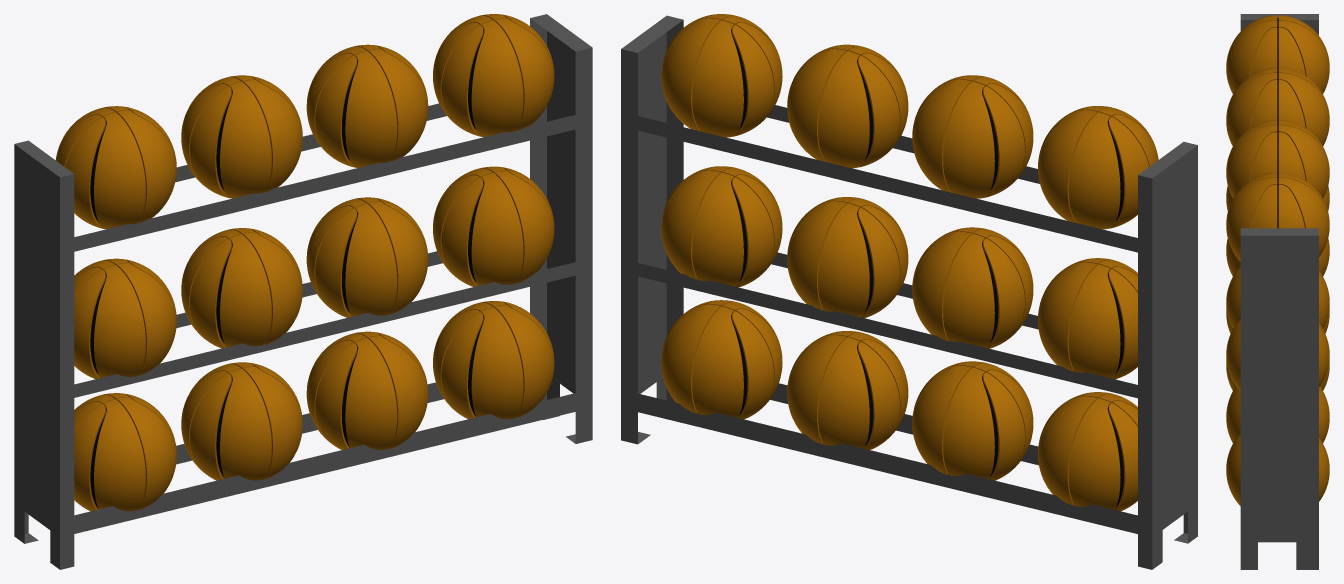
The model's file is basketballRack.fbx.
3 views of the same model, side by side, from view 1: azimuth 30°, elevation 25°; view 2: azimuth 150°, elevation 25°; view 3: azimuth 270°, elevation 25° (orthographic). The views are drawn at different scales.
Parts seen in each view (by area): view 1: pCube1, pSphere1, pSphere2, pSphere3, pSphere6, pSphere7, pSphere5, pSphere9, pSphere10, pSphere11, basketballModel:pSphere1, pSphere4 (+1 smaller); view 2: pCube1, pSphere2, pSphere1, pSphere3, pSphere5, pSphere7, pSphere6, pSphere9, pSphere10, pSphere11, basketballModel:pSphere1, pSphere4 (+1 smaller); view 3: pCube1, pSphere2, basketballModel:pSphere1, pSphere1, pSphere3, pSphere7, pSphere11, pSphere6, pSphere10, pSphere5, pSphere4, pSphere9.
Part boxes in pixels (bbox=[...]): pCube1: bbox=[14, 14, 592, 569]; pSphere1: bbox=[181, 75, 302, 198]; pSphere2: bbox=[306, 44, 428, 167]; pSphere3: bbox=[433, 14, 554, 137]; pSphere6: bbox=[306, 197, 428, 317]; pSphere7: bbox=[433, 166, 554, 286]; pSphere5: bbox=[181, 228, 302, 348]; pSphere9: bbox=[181, 362, 302, 480]; pSphere10: bbox=[306, 331, 428, 449]; pSphere11: bbox=[433, 301, 554, 419]; basketballModel:pSphere1: bbox=[55, 106, 176, 229]; pSphere4: bbox=[74, 258, 176, 379]; pCube1: bbox=[621, 15, 1197, 569]; pSphere2: bbox=[787, 44, 908, 168]; pSphere1: bbox=[912, 75, 1033, 198]; pSphere3: bbox=[661, 14, 782, 137]; pSphere5: bbox=[912, 227, 1033, 348]; pSphere7: bbox=[661, 166, 782, 287]; pSphere6: bbox=[787, 197, 908, 318]; pSphere9: bbox=[912, 361, 1033, 480]; pSphere10: bbox=[787, 331, 908, 449]; pSphere11: bbox=[661, 300, 782, 419]; basketballModel:pSphere1: bbox=[1038, 106, 1158, 229]; pSphere4: bbox=[1038, 258, 1137, 379]; pCube1: bbox=[1240, 14, 1318, 569]; pSphere2: bbox=[1226, 119, 1329, 198]; basketballModel:pSphere1: bbox=[1226, 15, 1329, 93]; pSphere1: bbox=[1226, 67, 1329, 146]; pSphere3: bbox=[1226, 172, 1329, 261]; pSphere7: bbox=[1226, 319, 1329, 391]; pSphere11: bbox=[1226, 433, 1329, 505]; pSphere6: bbox=[1226, 266, 1329, 328]; pSphere10: bbox=[1226, 387, 1329, 442]; pSphere5: bbox=[1226, 239, 1329, 276]; pSphere4: bbox=[1226, 186, 1329, 211]; pSphere9: bbox=[1226, 361, 1329, 390].
Bounding box in the file's own units: 7.39 × 5.61 × 1.46.
